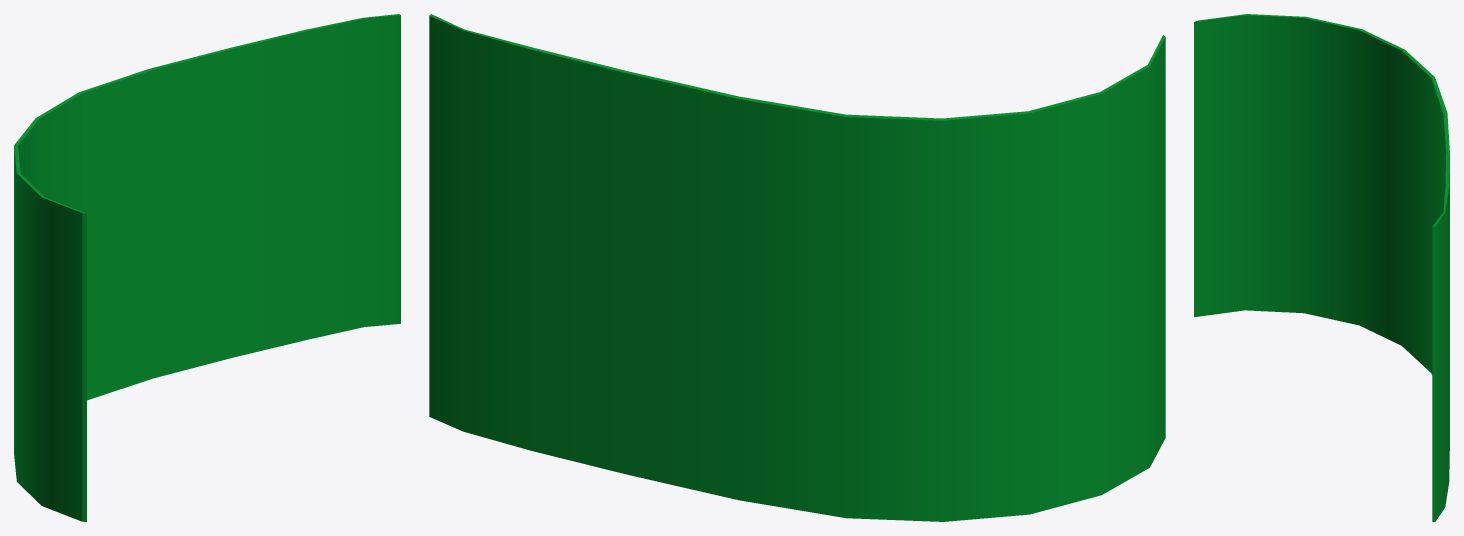
The model's file is greenScreen.gltf.
3 renders of one model, left to right at view 1: azimuth 30°, elevation 25°; view 2: azimuth 150°, elevation 25°; view 3: azimuth 270°, elevation 25°, orthographic. The views are drawn at different scales.
Parts seen in each view (by area): view 1: polySurface102; view 2: polySurface102; view 3: polySurface102.
Boxes of the visible parts, left/top/right/bottom form: polySurface102: left=14, top=14, right=400, bottom=521; polySurface102: left=429, top=14, right=1165, bottom=521; polySurface102: left=1194, top=14, right=1449, bottom=521.
Bounding box in the file's own units: 0.1341 × 0.0867 × 0.0681.
